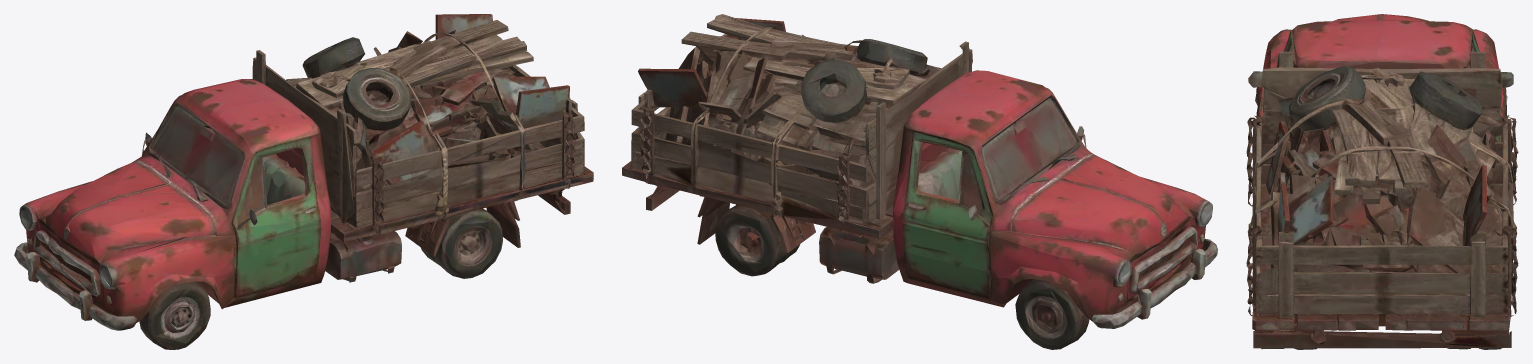
File: prop-truck.glb
3 renders of one model, left to right at view 1: azimuth 30°, elevation 25°; view 2: azimuth 150°, elevation 25°; view 3: azimuth 270°, elevation 25°, orthographic. The views are drawn at different scales.
Size of the model in its own units: 1.9 by 0.7443 by 0.774.
Materials: 1 (1 with a texture image).
